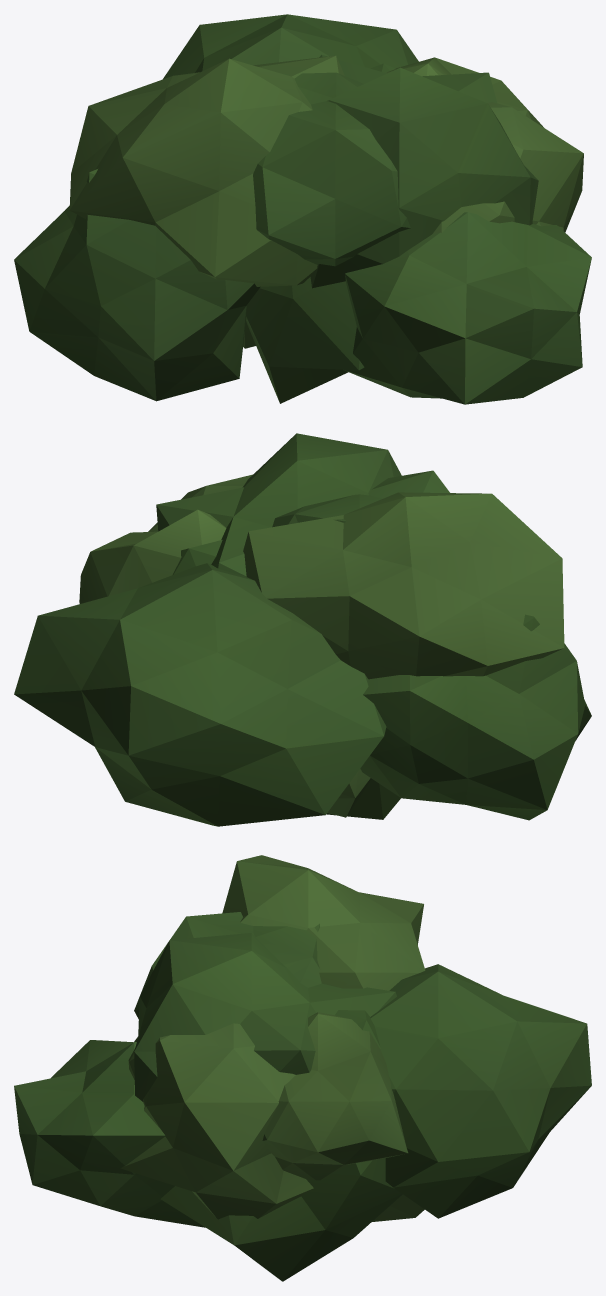
Rendered from veg_buske_0.glb.
The picture shows the model from 3 angles, top to bottom: view 1: azimuth 30°, elevation 25°; view 2: azimuth 150°, elevation 25°; view 3: azimuth 270°, elevation 25°; orthographic projection. The views are drawn at different scales.
Visible parts, largest first — view 1: geometry_0; view 2: geometry_0; view 3: geometry_0.
Part boxes in pixels (left/top/right/bottom): geometry_0: left=14, top=14, right=591, bottom=404; geometry_0: left=14, top=433, right=591, bottom=826; geometry_0: left=14, top=855, right=591, bottom=1281.
Size of the model in its own units: 1.52 by 1 by 1.67.
